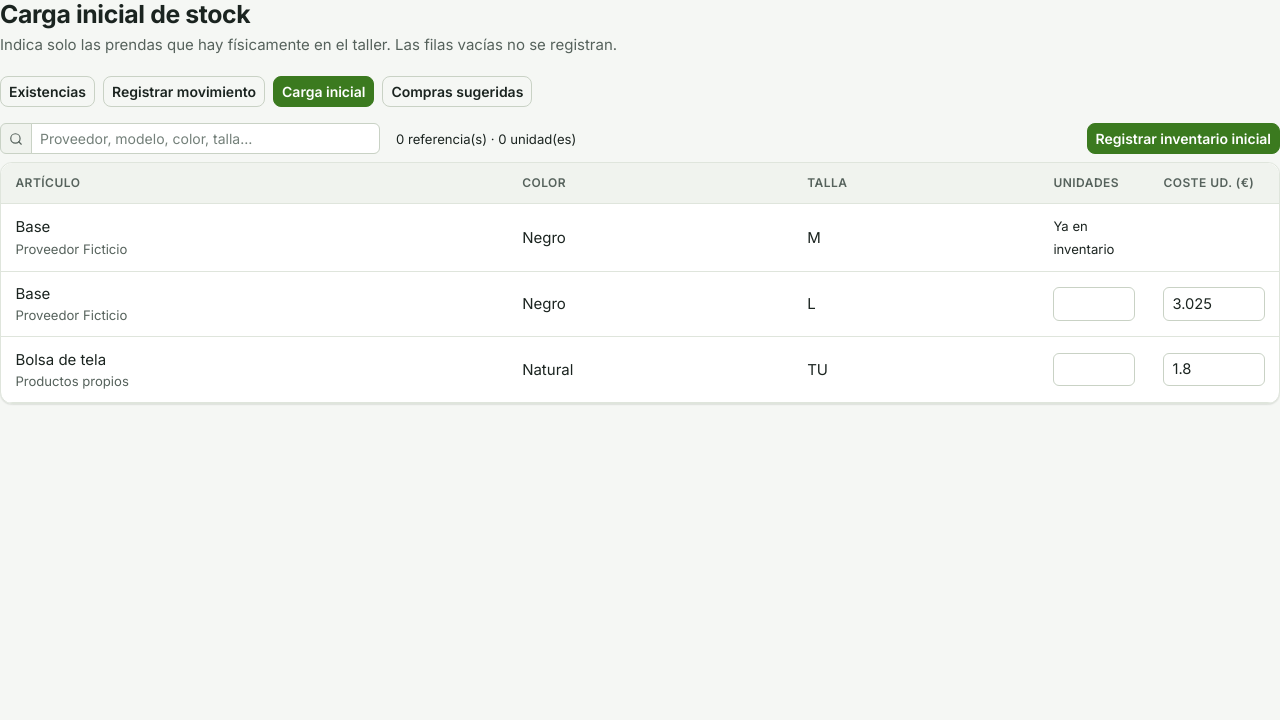
Scenario: interfaz del inventario › carga inicial: solo las cantidades escritas, con confirmación; lo que ya está en inventario no se toca
This screenshot has width=1280, height=720.
Check: the text "Ya en inventario" is shown, box x1=1053 y1=218 x2=1114 y2=257
Type "6" into the field named "Unidades Base Negro L".
click(1094, 304); type("6")  # box x1=1053 y1=287 x2=1135 y2=321
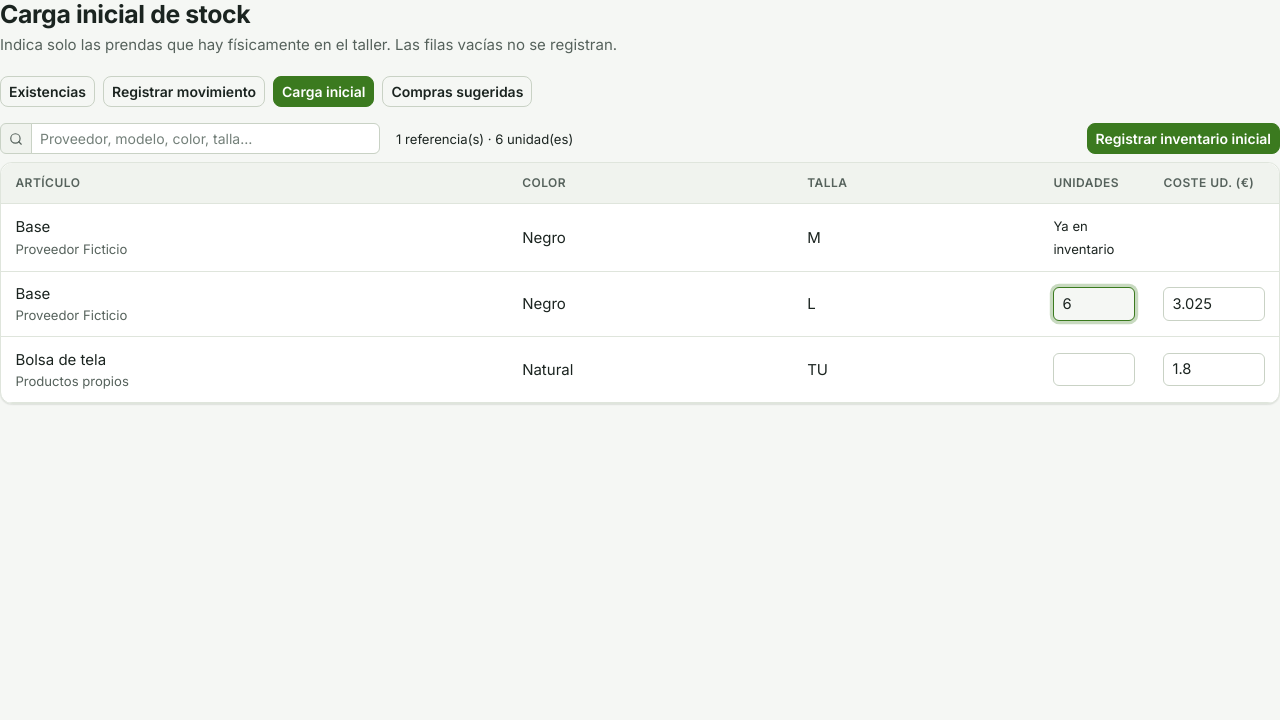
Type "20" into the field named "Unidades Bolsa de tela Natural TU".
click(1094, 369); type("20")  # box x1=1053 y1=353 x2=1135 y2=386
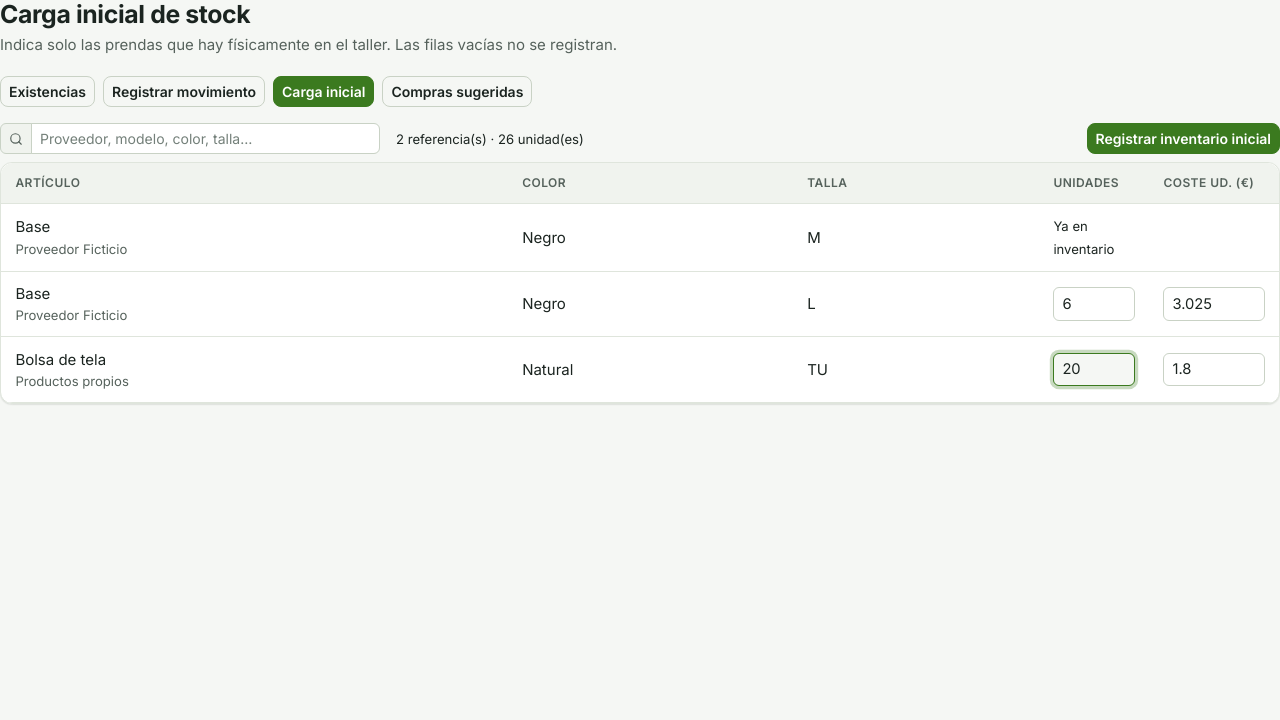
Check: the text with test id "resumen-carga" reads "2 referencia(s) · 26 unidad(es)", box x1=396 y1=128 x2=584 y2=149
Click the button "Registrar inventario inicial".
click(1183, 139)  # box x1=1086 y1=123 x2=1279 y2=154
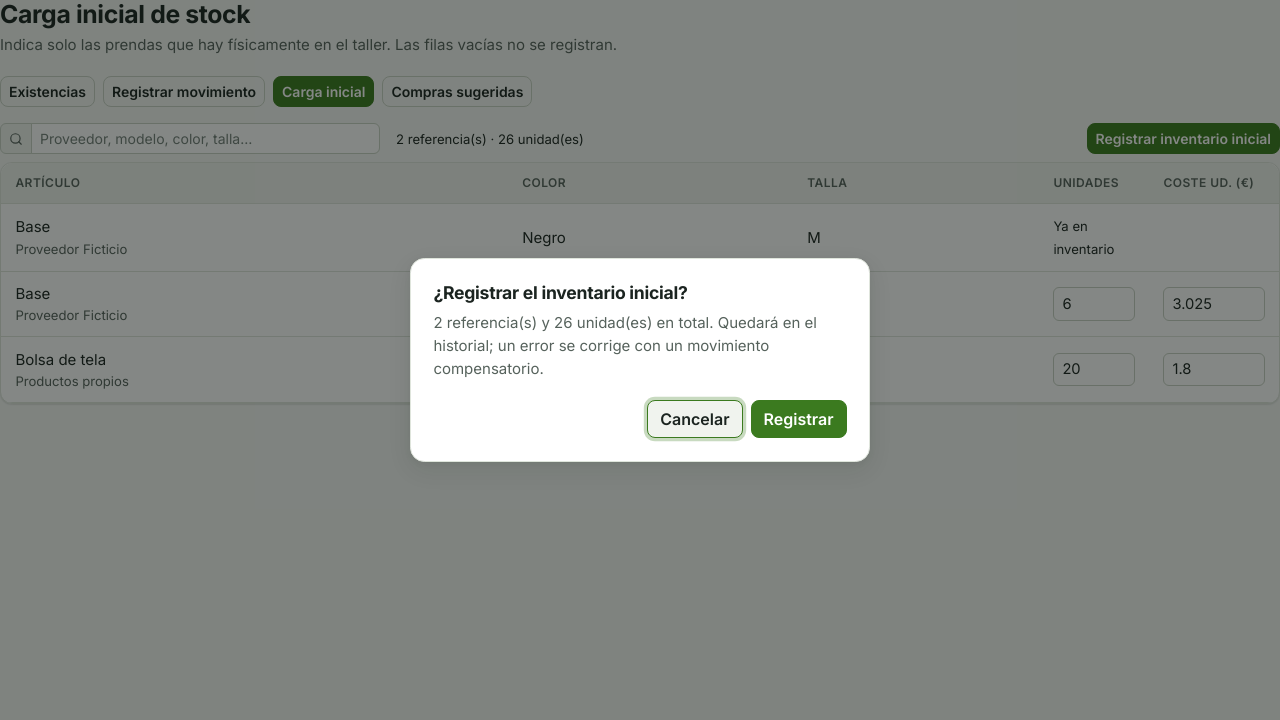
Check: the dialog shows "2 referencia(s) y 26 unidad(es)", box x1=433 y1=313 x2=817 y2=378
Click the button "Registrar".
click(799, 419)  # box x1=750 y1=400 x2=847 y2=438
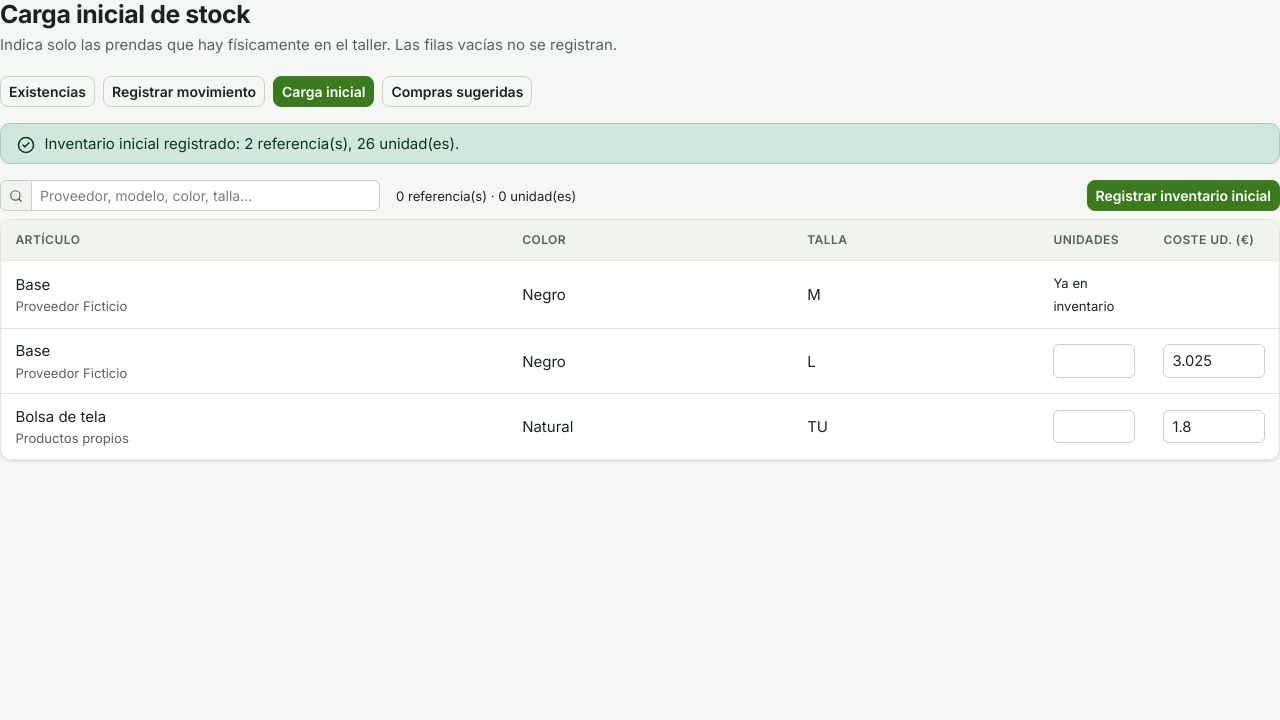
Check: the text "Inventario inicial registrado: 2 referencia(s), 26 unidad(es)" is shown, box x1=45 y1=134 x2=459 y2=153
